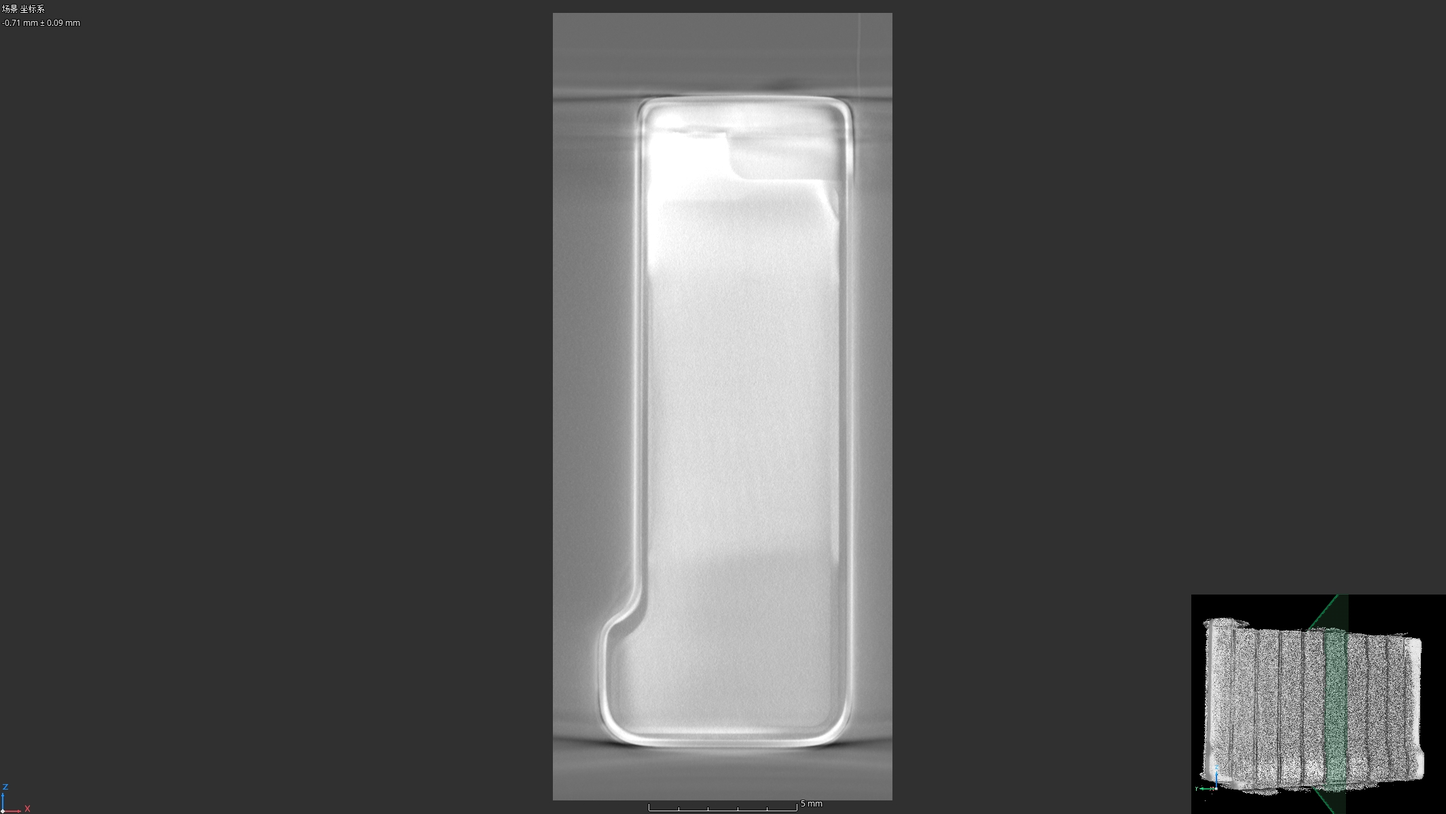damage: (821, 178, 844, 225)
